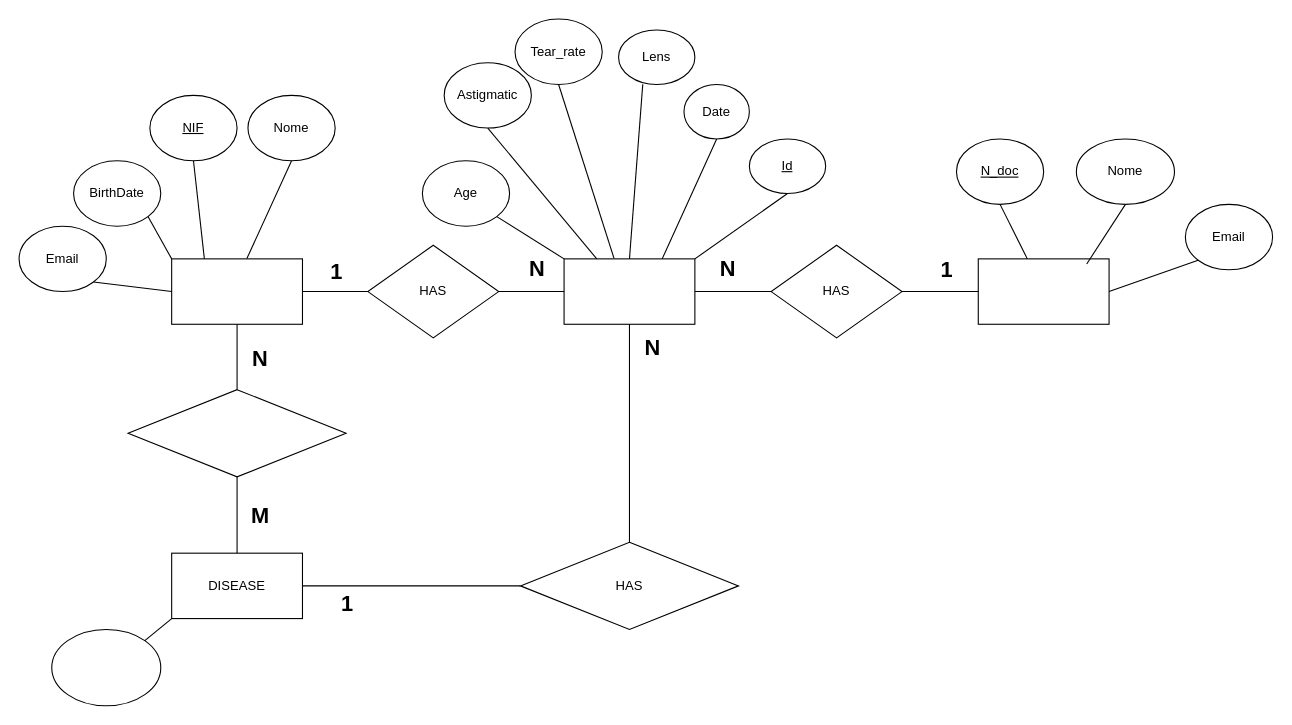
The diagram is 1292 pixels wide and 725 high, and some of its shapes have lost their labels. The shapes that lost their labels are listed below. From the top down, each one's centre as x and y in pixels, then its label:
At (x=236, y=291): "PATIENT".
At (x=629, y=291): "APPOINTMENT".
At (x=1043, y=291): "DOCTOR".
At (x=236, y=433): "PATIENT_DISEASE".
At (x=106, y=667): "DiseaseName".
